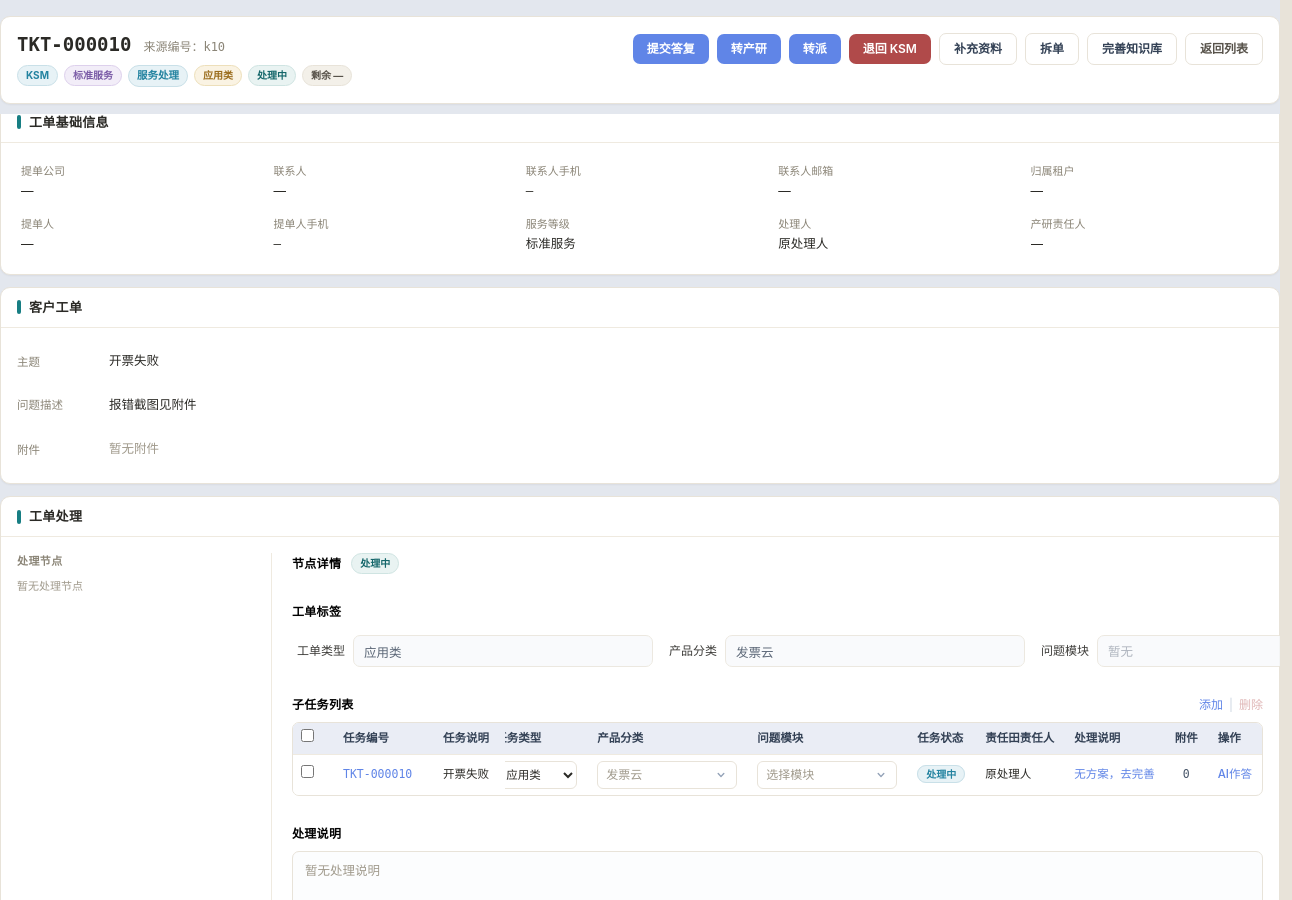
Test case: TicketDetailPage 出站回写失败横幅 › 子任务列表中选择产品分类与问题模块后，任务处理人即时自动变更为指定责任人
Expected: the text "原处理人" is shown, [778, 236, 828, 251]
1. 选择产品分类
What coordinates should you click on to do the following:
click the button with aria-label "子任务产品分类"
I would click on:
 (667, 775)
Its box is [597, 761, 737, 789].
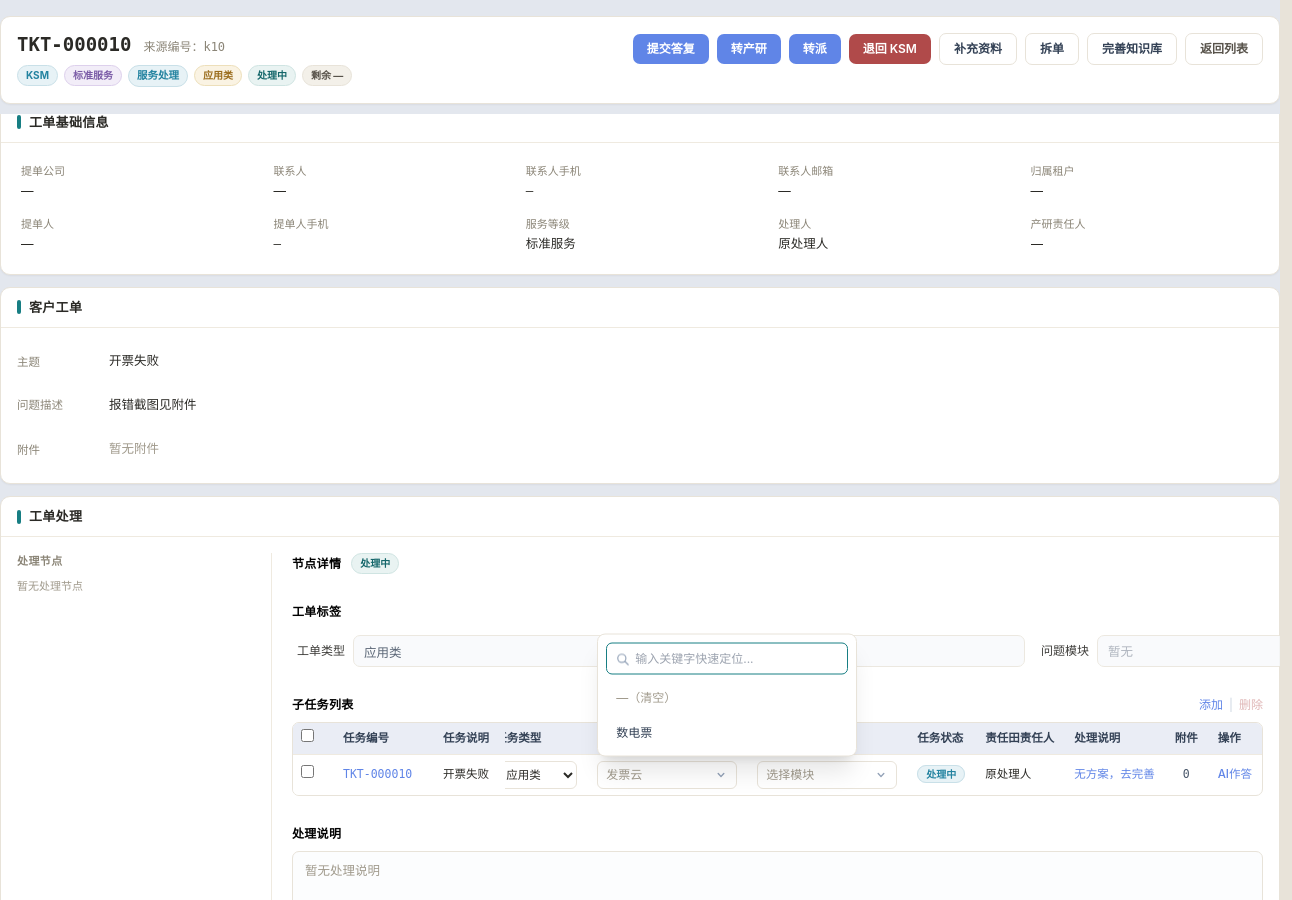
What coordinates should you click on to do the following:
click the button "数电票"
I would click on:
 (725, 732)
Its box is [606, 716, 844, 748].
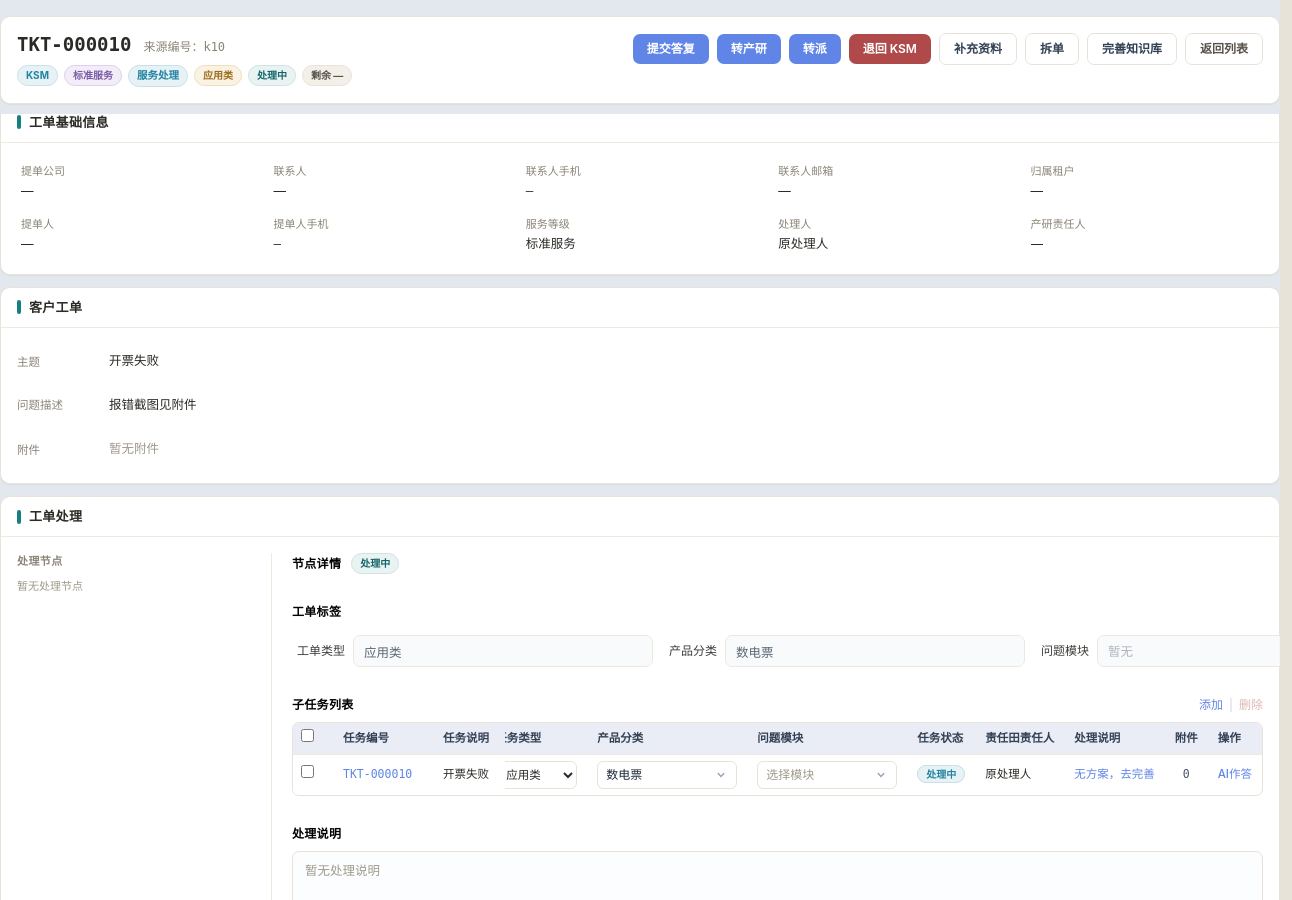
2. 选择问题模块
What coordinates should you click on to do the following:
click the button with aria-label "子任务问题模块"
I would click on:
 (827, 775)
Its box is [757, 761, 897, 789].
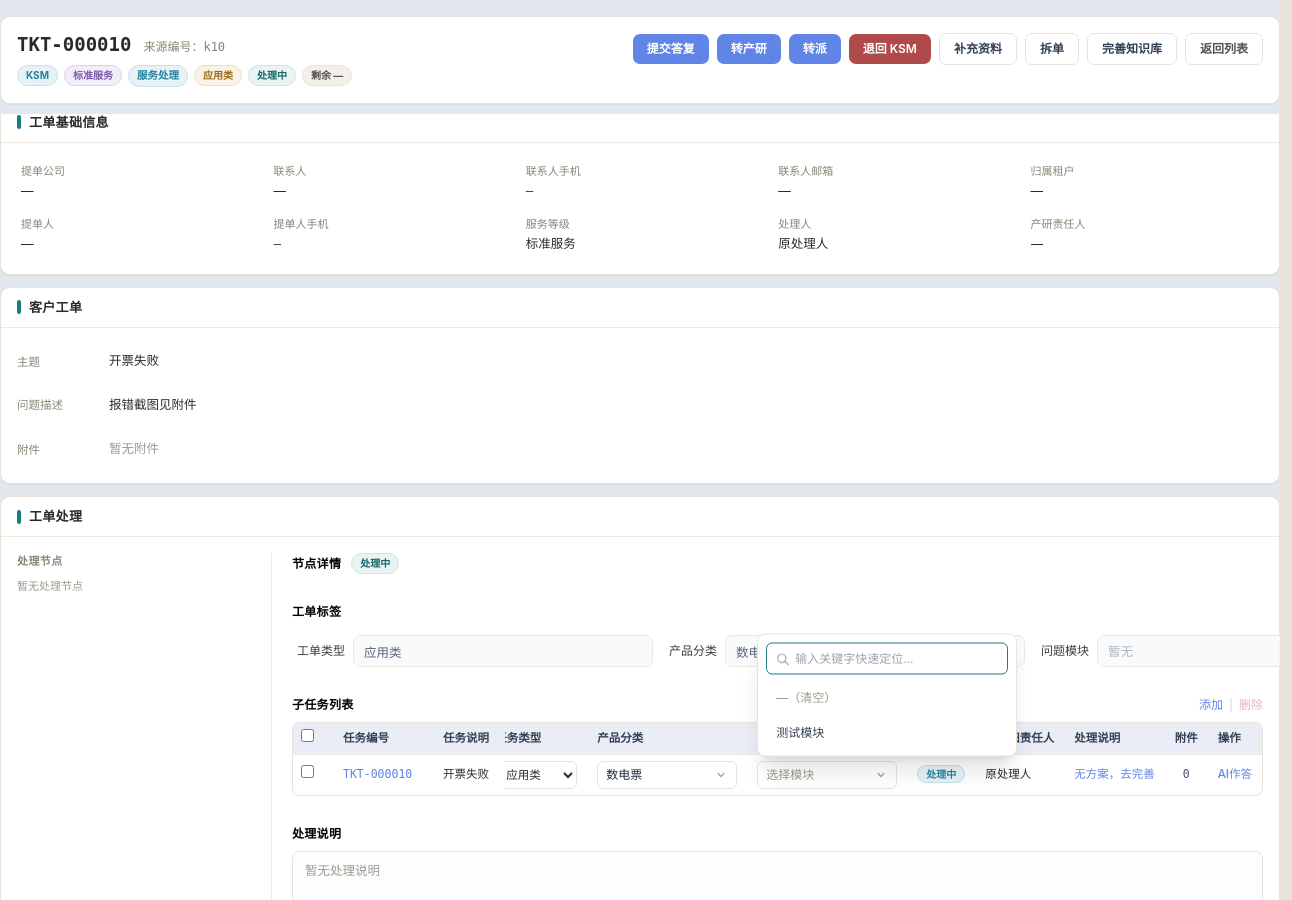
What coordinates should you click on to do the following:
click the button "测试模块"
I would click on:
 (885, 732)
Its box is [766, 716, 1004, 748].
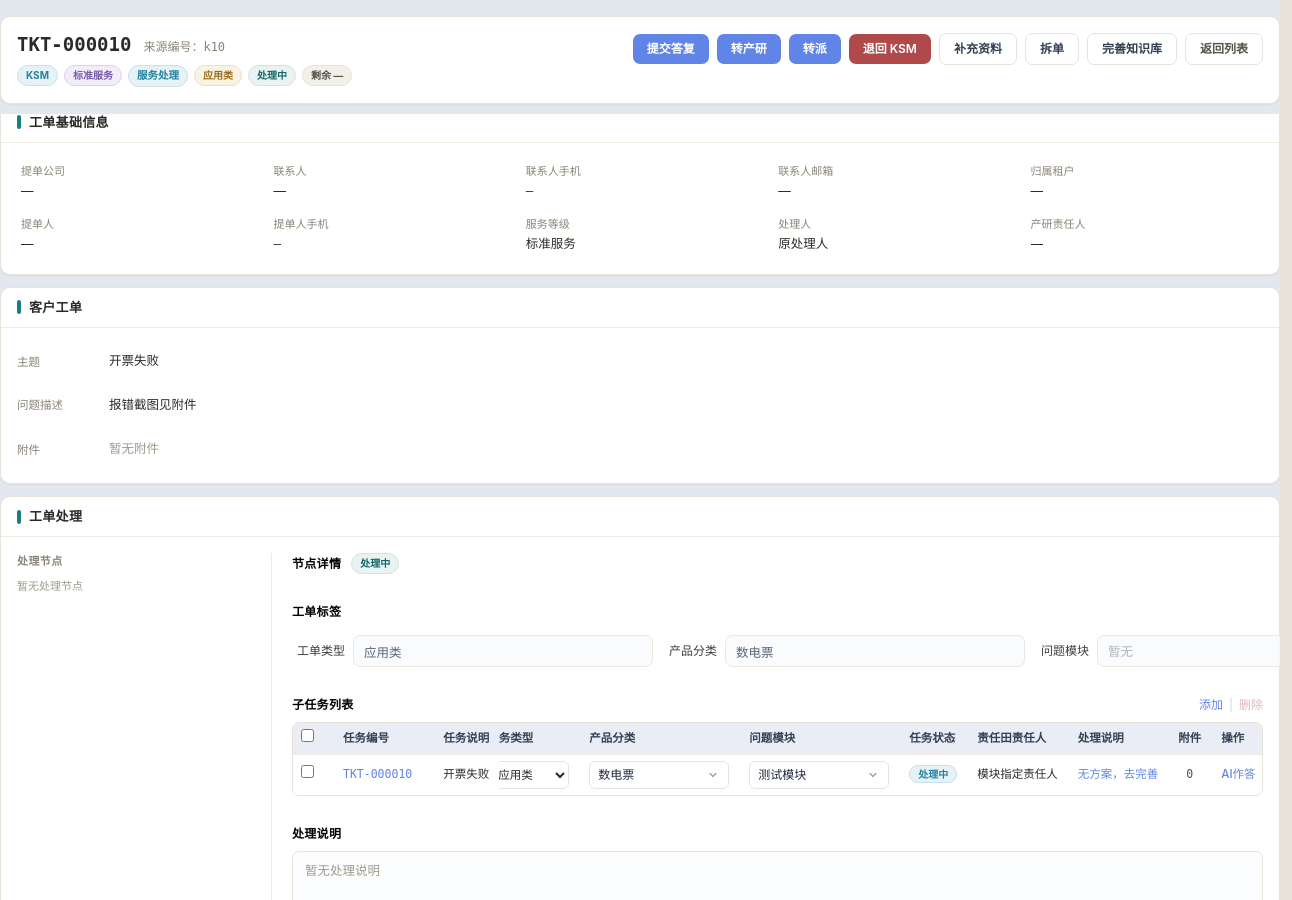
Now the text "模块指定责任人" is shown, box [967, 754, 1068, 795]
